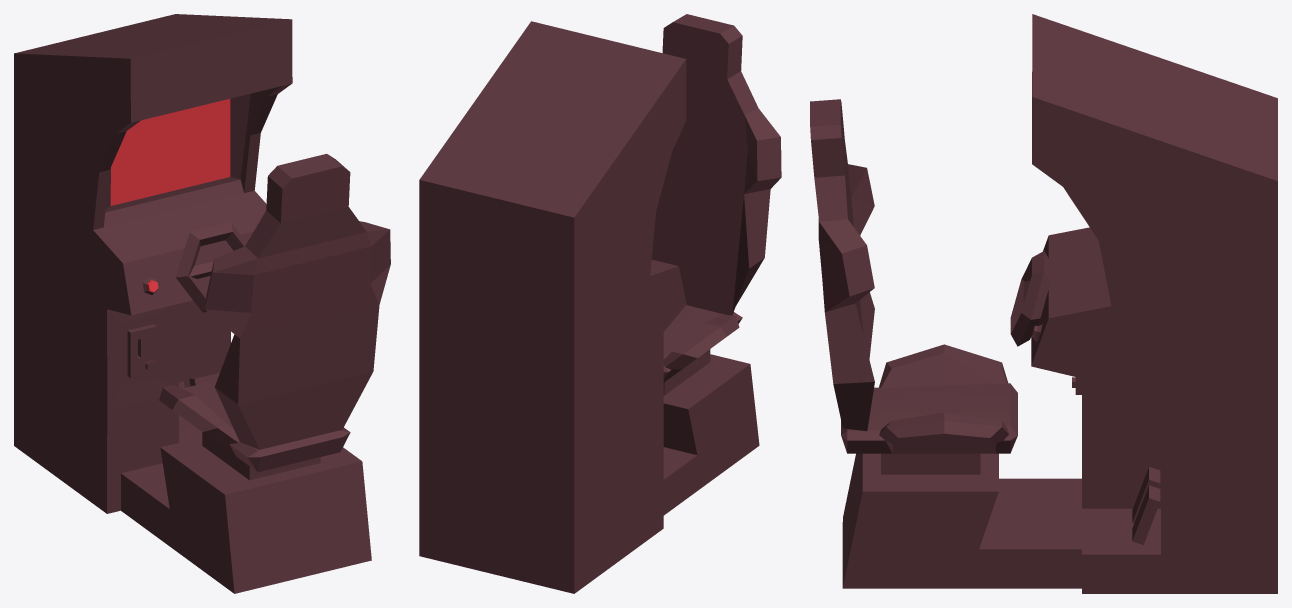
File: arcade-machine-race.fbx
3 views of the same model, side by side, from view 1: azimuth 30°, elevation 25°; view 2: azimuth 150°, elevation 25°; view 3: azimuth 270°, elevation 25° (orthographic). The views are drawn at different scales.
Visible parts, largest first — view 1: arcade-machine-race; view 2: arcade-machine-race; view 3: arcade-machine-race.
Part boxes in pixels (bbox=[...]): arcade-machine-race: bbox=[14, 14, 390, 593]; arcade-machine-race: bbox=[419, 14, 781, 593]; arcade-machine-race: bbox=[810, 14, 1277, 593].
Size of the model in its own units: 0.734 by 1.78 by 1.52.
